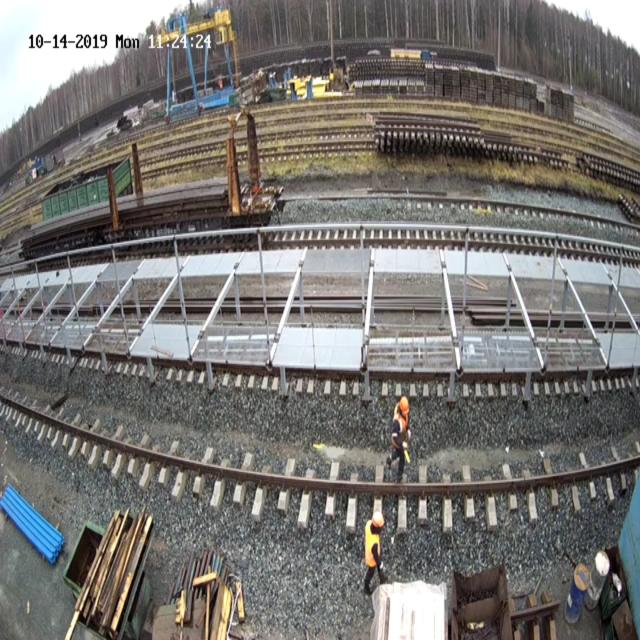Helmet: (372, 511, 384, 528), (399, 395, 409, 414)
Person: (386, 395, 411, 481), (364, 510, 386, 595)
